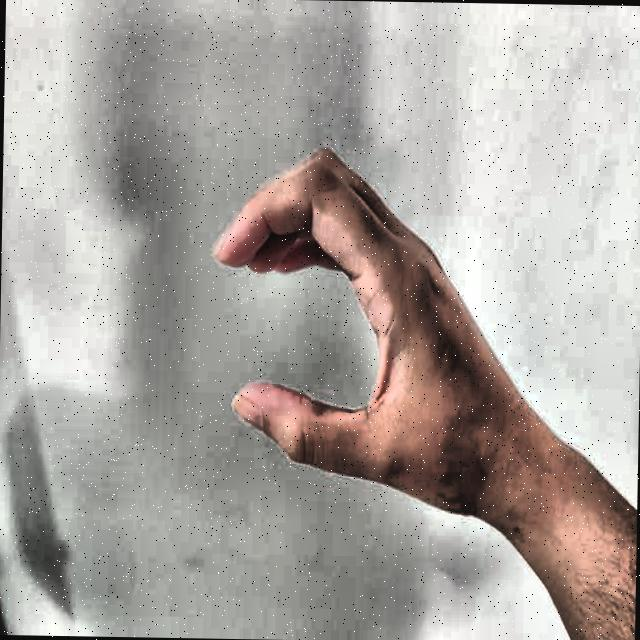A: (174, 130, 496, 554)
